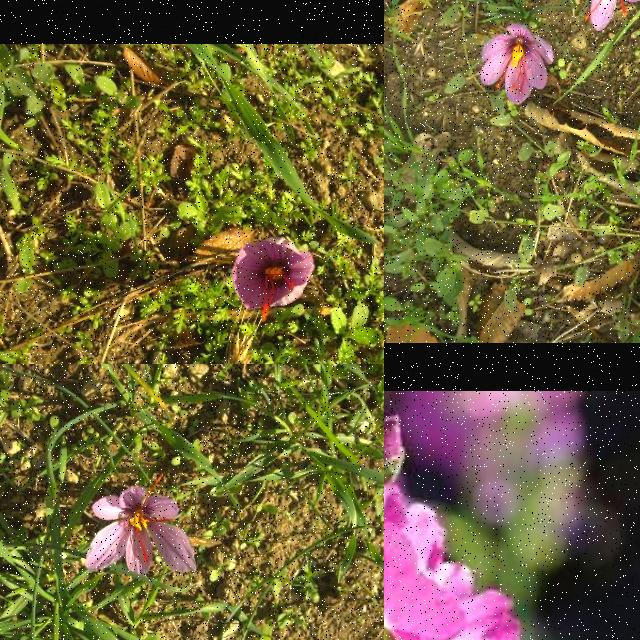flower: (86, 474, 196, 574), (232, 237, 316, 321), (480, 24, 556, 106), (555, 0, 640, 32)
